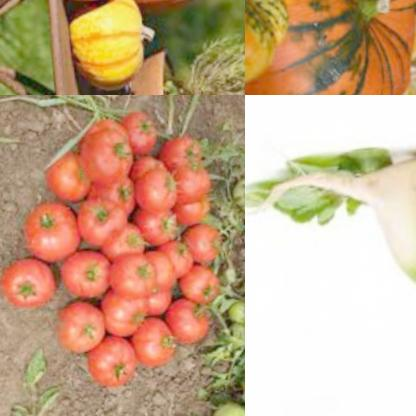pumpkin: (245, 0, 416, 95), (55, 0, 155, 95), (245, 0, 300, 95), (360, 17, 416, 95)
redka: (337, 151, 416, 318)
tomato: (17, 201, 85, 264), (50, 299, 107, 358), (80, 130, 137, 189), (0, 256, 54, 316), (82, 341, 134, 400), (74, 202, 128, 255), (43, 156, 97, 205), (162, 302, 212, 352), (165, 166, 217, 212), (60, 251, 105, 302), (130, 322, 173, 374), (92, 297, 144, 340), (134, 172, 183, 216), (110, 260, 157, 305), (92, 178, 138, 222), (178, 229, 223, 273), (159, 137, 205, 180), (100, 226, 149, 265), (122, 110, 163, 156), (178, 272, 222, 313), (135, 208, 176, 247), (157, 245, 191, 284), (174, 198, 210, 229)
